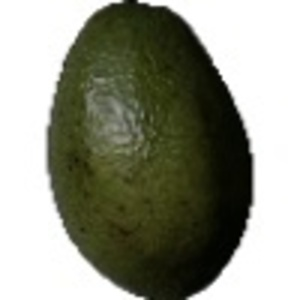abacate: (44, 1, 247, 299)
